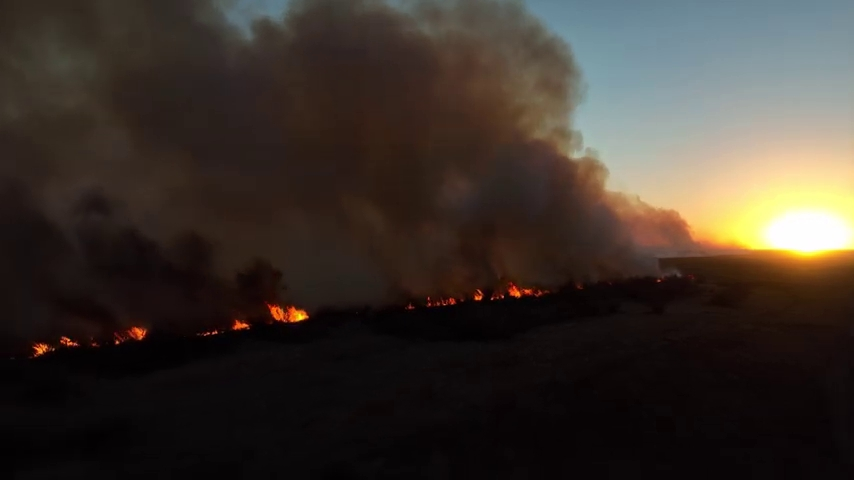forest_fire: (424, 282, 548, 306), (265, 303, 309, 322), (232, 319, 249, 329), (36, 344, 49, 356), (131, 327, 144, 338)
